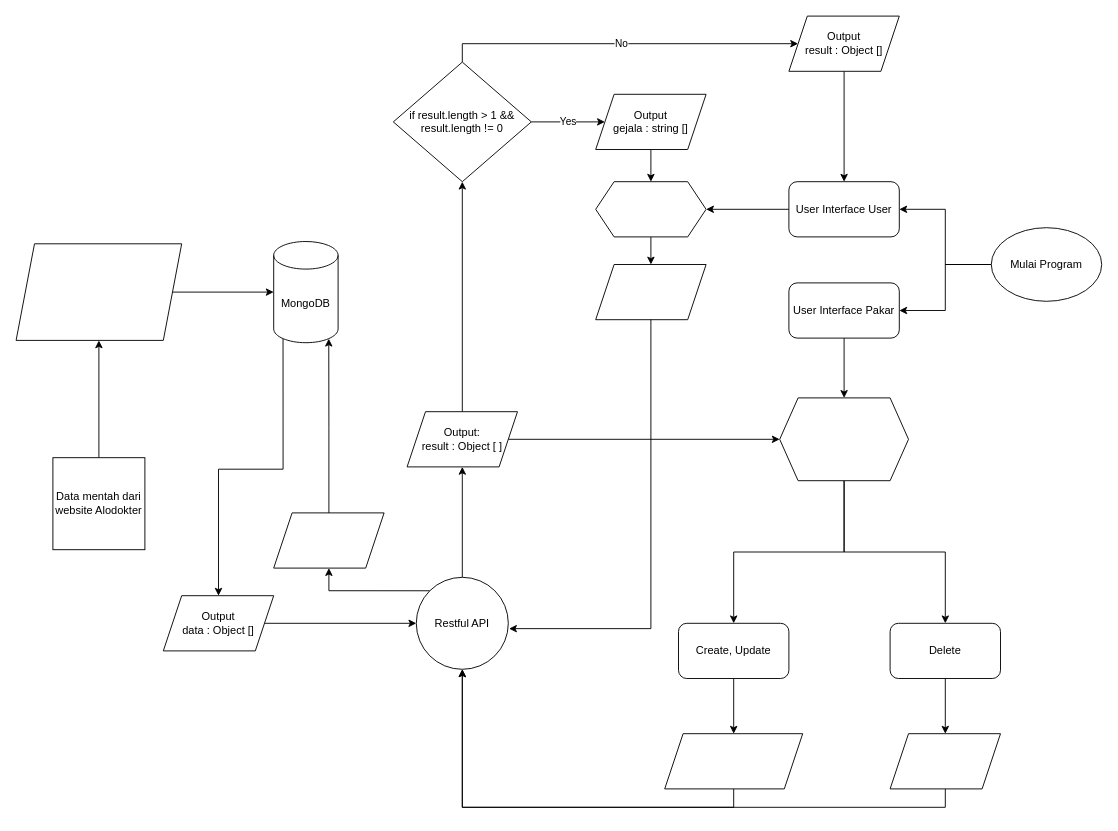
Image size: 1118x831. Some labels were removed from this diagram. The centre of each missing label's shape, as x and y in pixels:
"Input data : Object []" belongs at point 328,540.
"Input gejala : string[ ]" belongs at point 650,292.
"Input Id penyakit" belongs at point 944,761.
"Input penyakit baru : Object" belongs at point 733,761.
"Input { nama, deskripsi, penyebab, gejala, penanganan }" belongs at point 98,291.
"Proses diagnosis yes / no" belongs at point 650,209.
"Sistem CRUD Create, Read, Update, Delete untuk penyakit" belongs at point 843,439.
